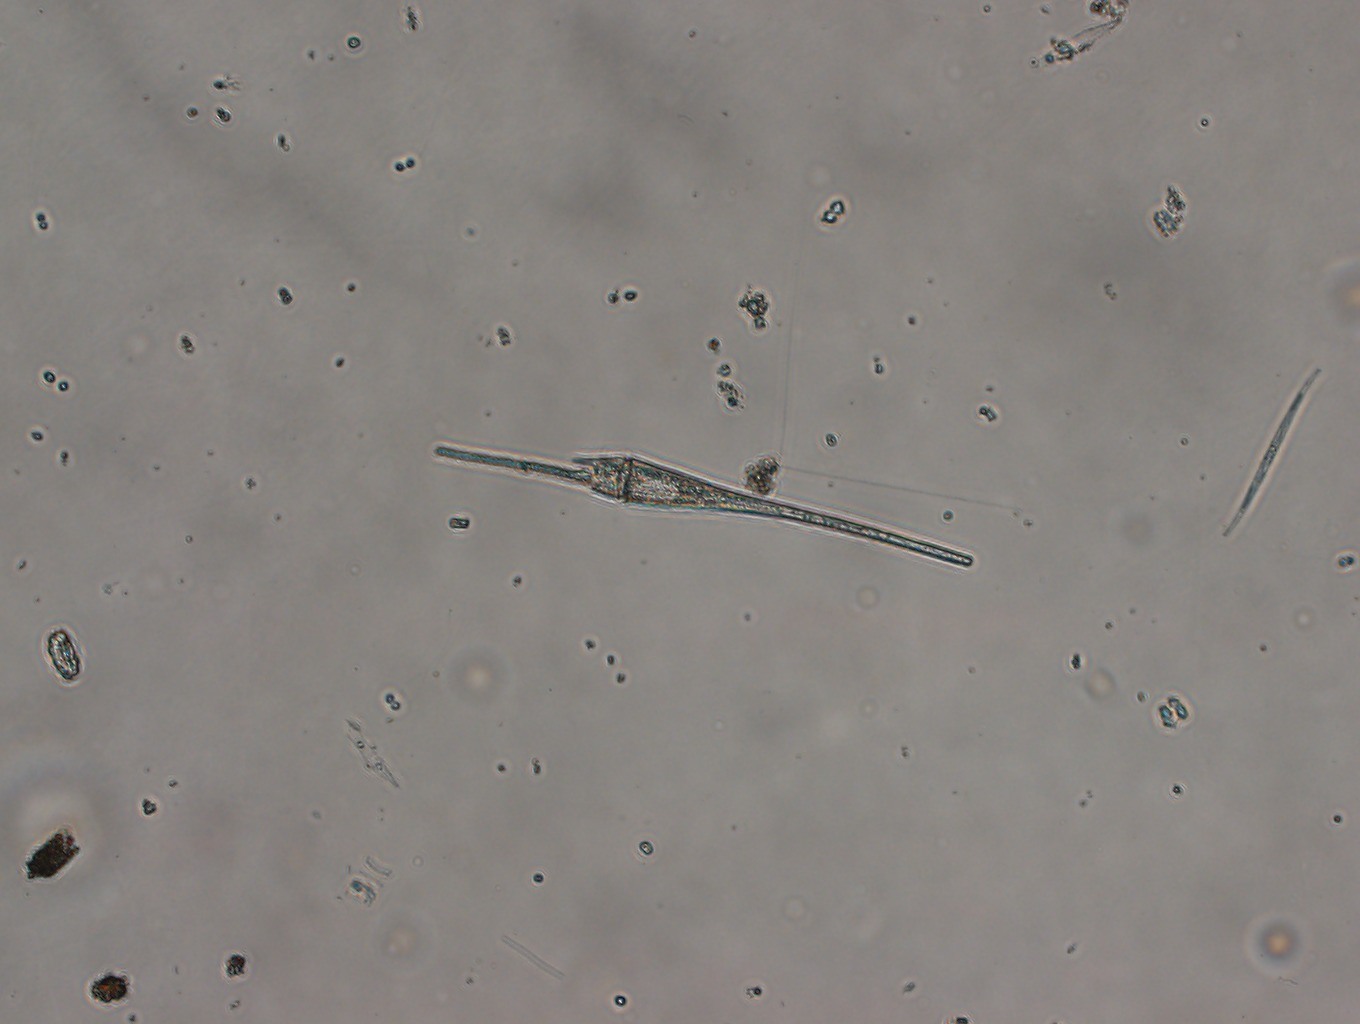ceratium fusus: (429, 442, 978, 570)
